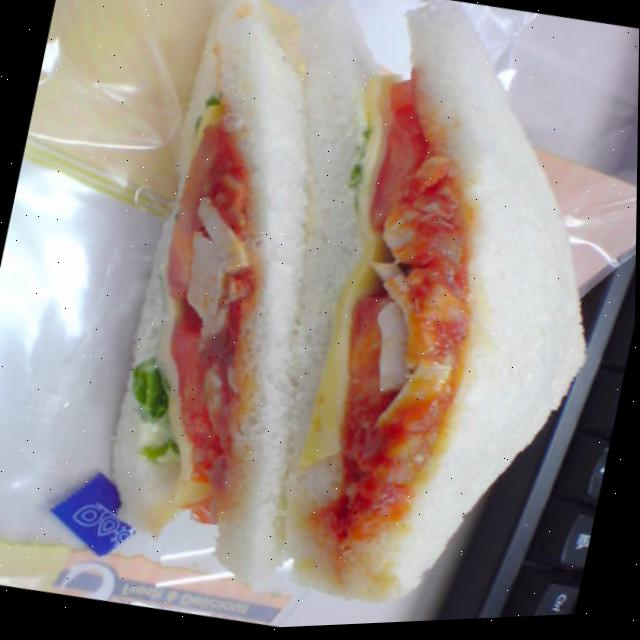三明治: (78, 0, 640, 637)
